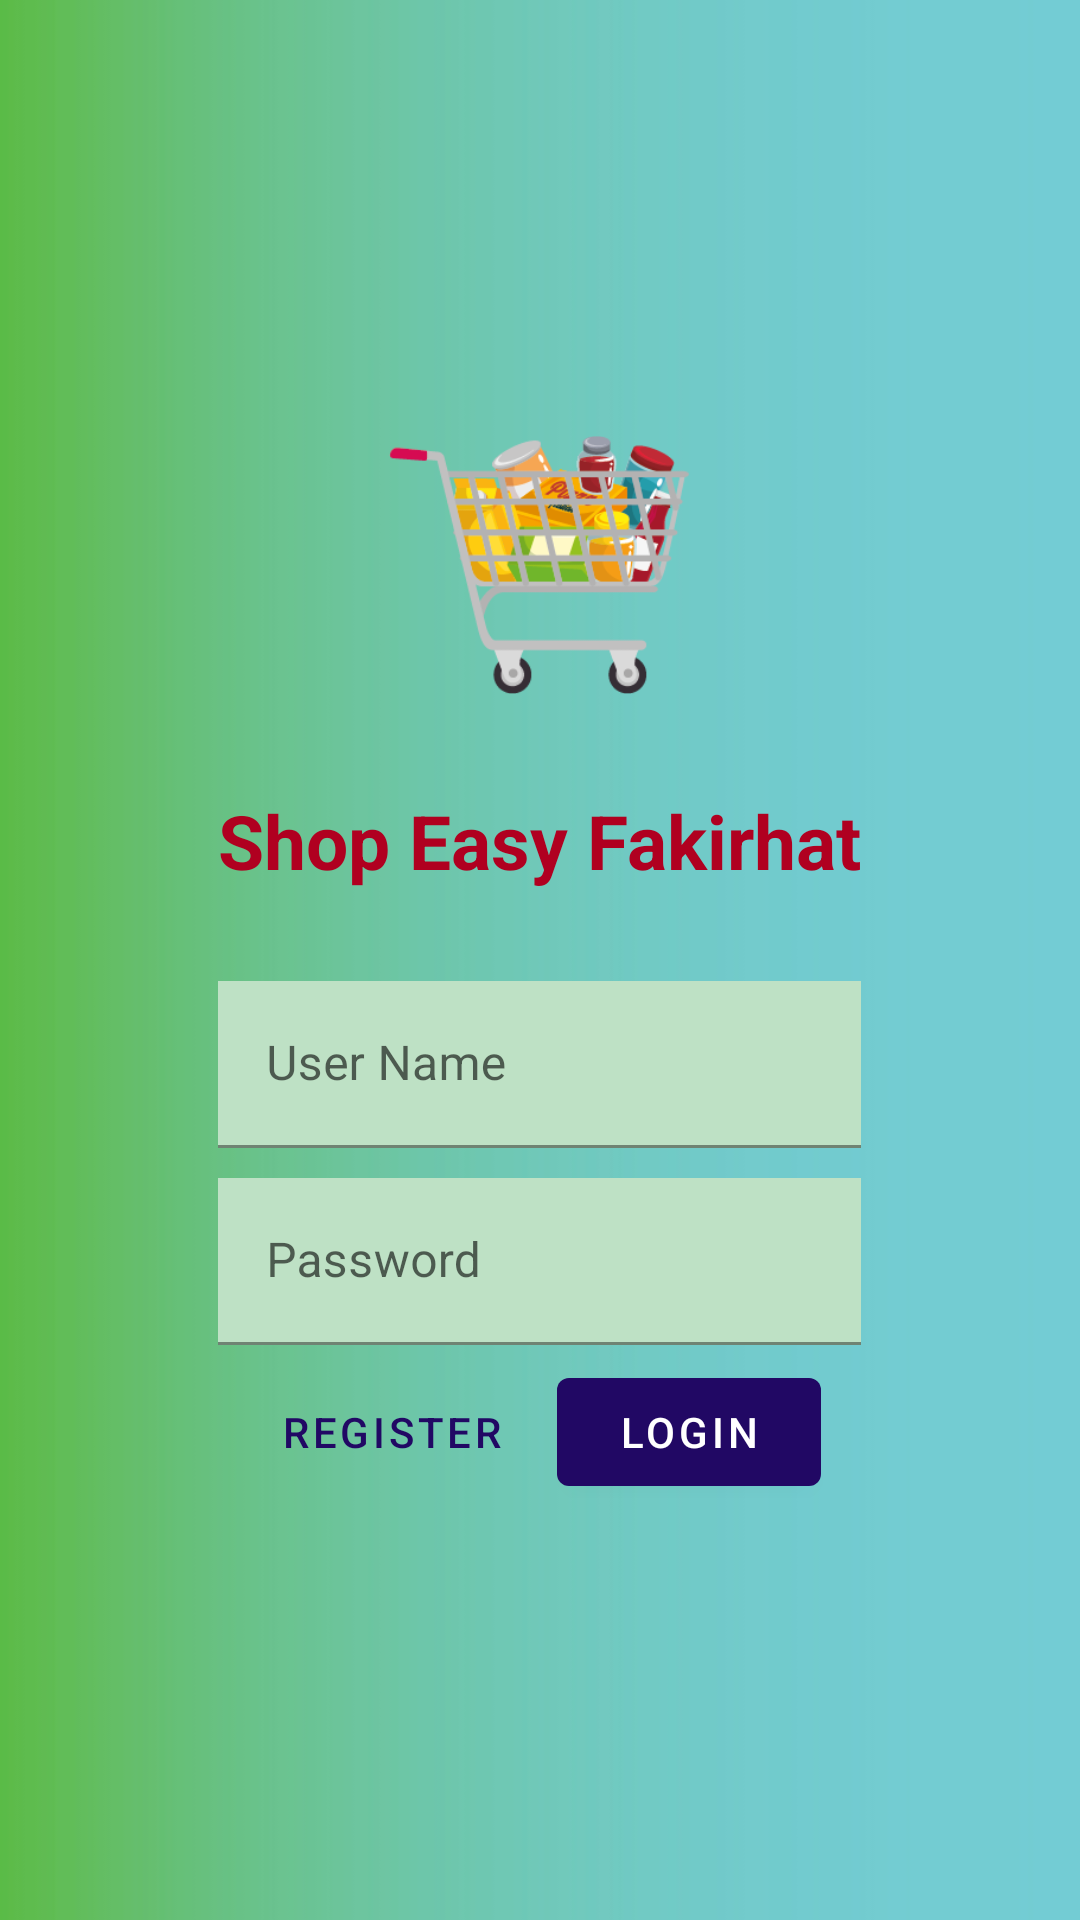

Point at icon controls on the screen. Image size 1080*1920, points as (x=x, y=y).
cart: (x=539, y=565)
